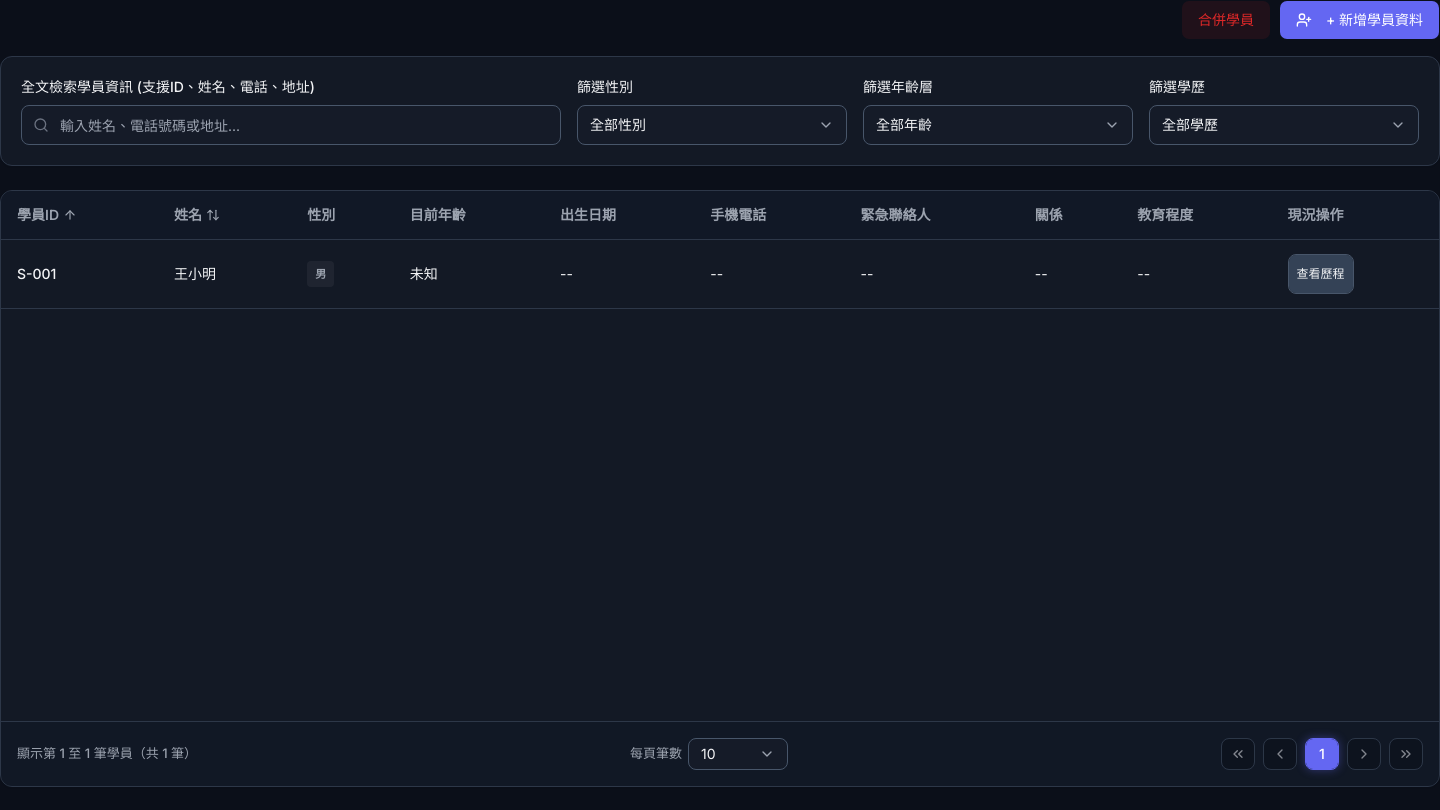
StudentListTab list navigation › keeps the admin merge dialog available
Click the button "合併學員": (1226, 20) [1181,0,1271,40]
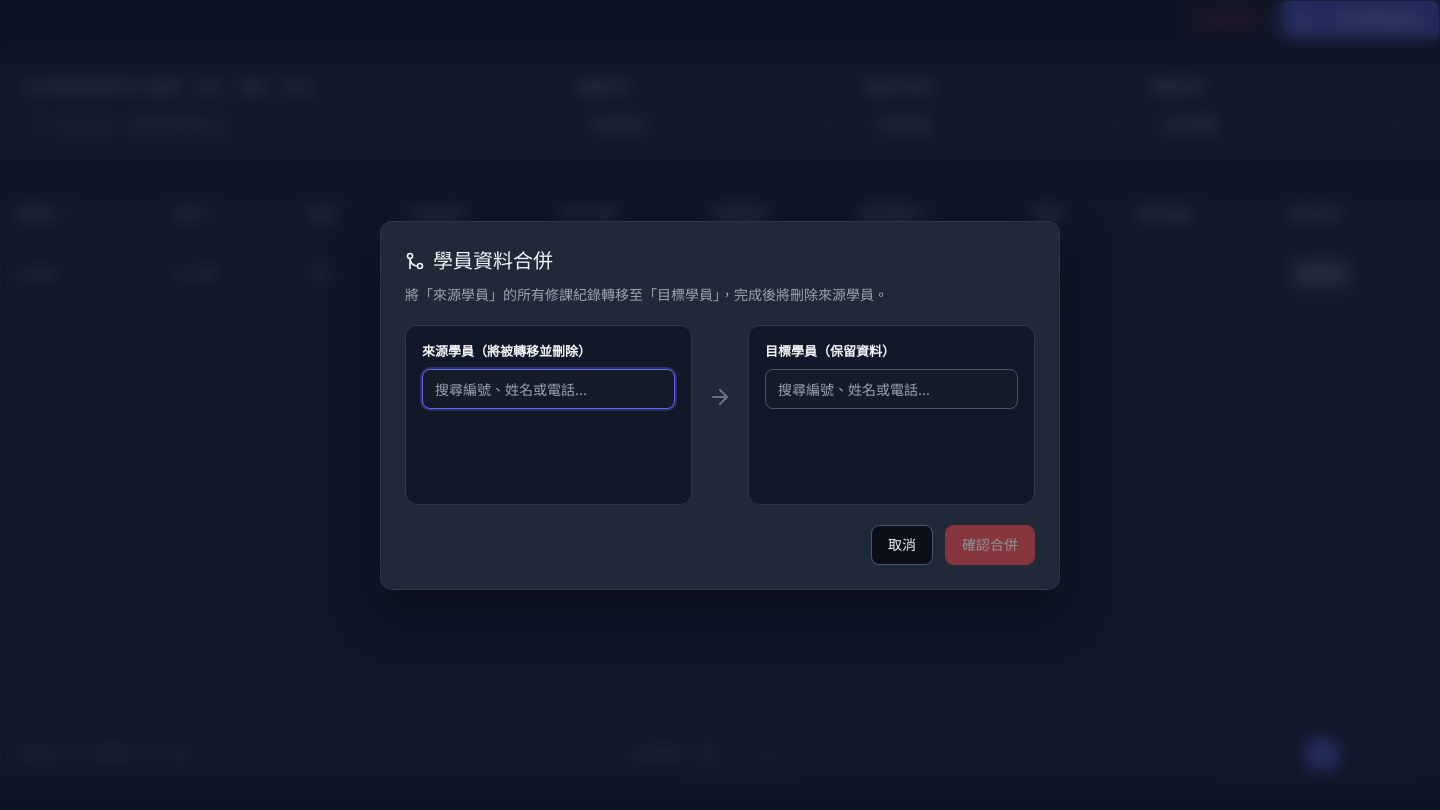
Result: the dialog is shown
